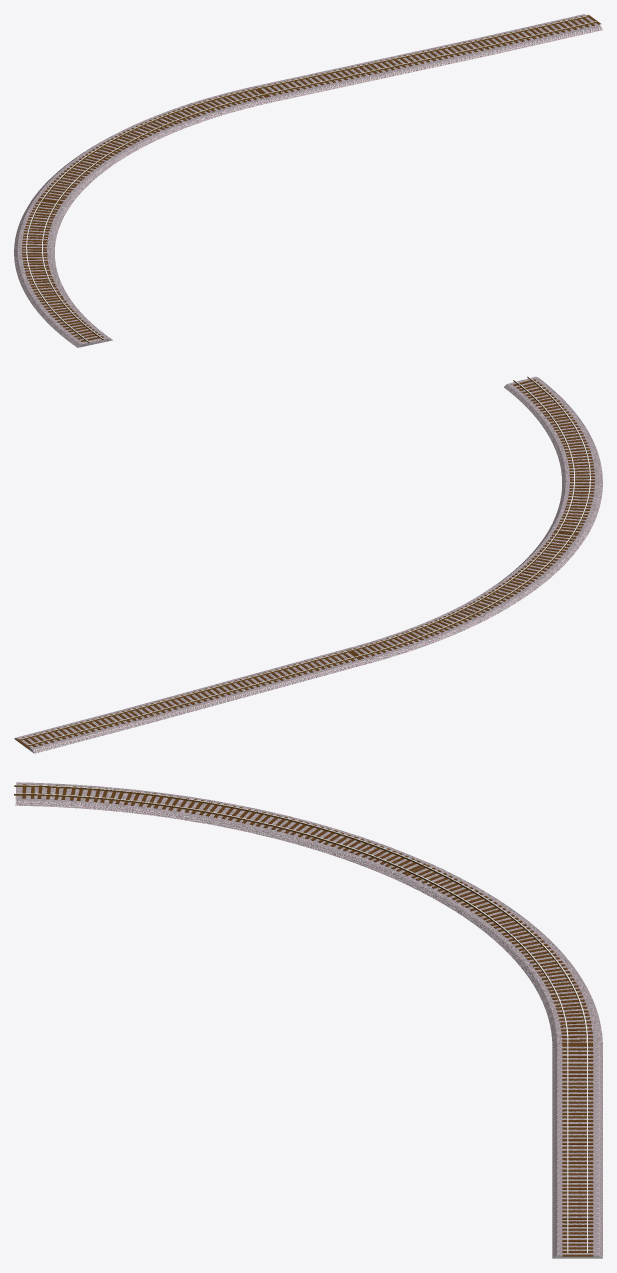
File: GMLID_48290571_3377_526.dae
The picture shows the model from 3 angles, top to bottom: view 1: azimuth 30°, elevation 25°; view 2: azimuth 210°, elevation 25°; view 3: azimuth 270°, elevation 25°; orthographic projection. The views are drawn at different scales.
Size of the model in its own units: 111 by 61.46 by 3.62.
Materials: 5 (1 with a texture image).
